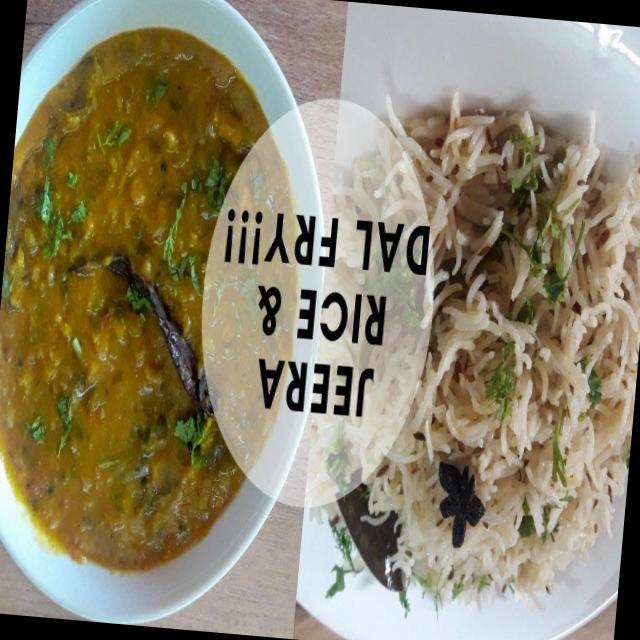dal: (0, 0, 323, 617)
rice: (302, 46, 640, 609)
